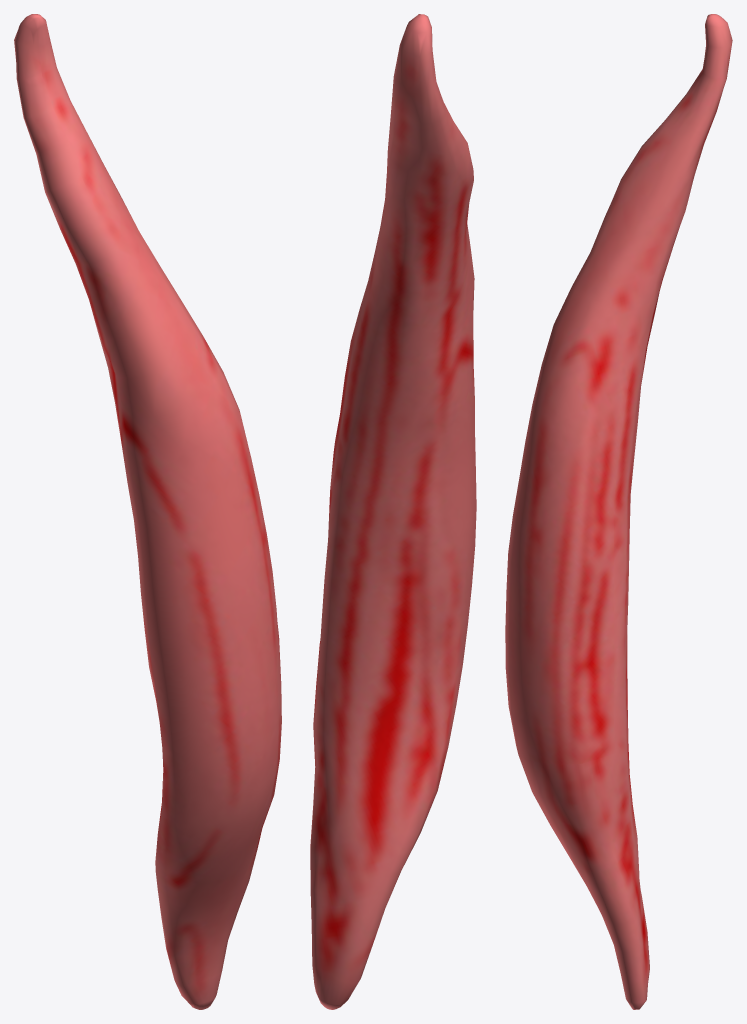
Rendered from Flexor_Carpi_Ulnaris.glb.
3 renders of one model, left to right at view 1: azimuth 30°, elevation 25°; view 2: azimuth 150°, elevation 25°; view 3: azimuth 270°, elevation 25°, orthographic. The views are drawn at different scales.
Parts seen in each view (by area): view 1: flexor_carpi_ulnaris1.005; view 2: flexor_carpi_ulnaris1.005; view 3: flexor_carpi_ulnaris1.005.
Boxes of the visible parts, x1,y1,x2,y2 form: flexor_carpi_ulnaris1.005: [14, 14, 281, 1009]; flexor_carpi_ulnaris1.005: [310, 14, 476, 1009]; flexor_carpi_ulnaris1.005: [505, 14, 732, 1009].
Size of the model in its own units: 0.0822 by 0.4243 by 0.0933.
1 material, 1 textured.
